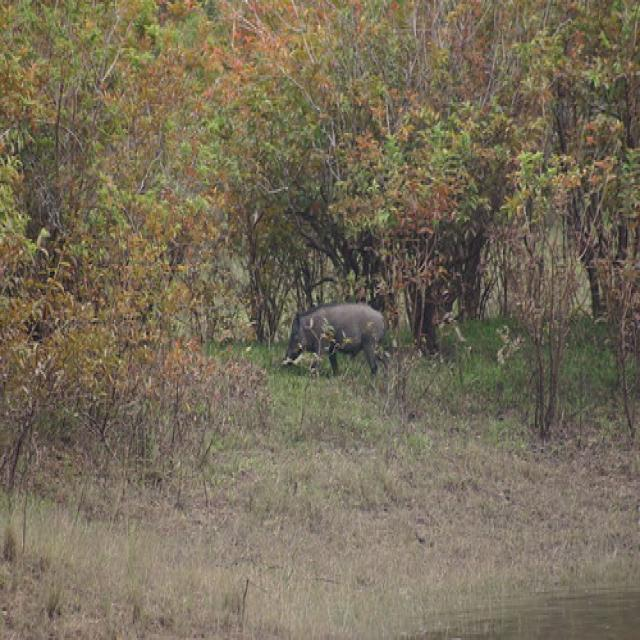boar: (269, 280, 392, 405)
